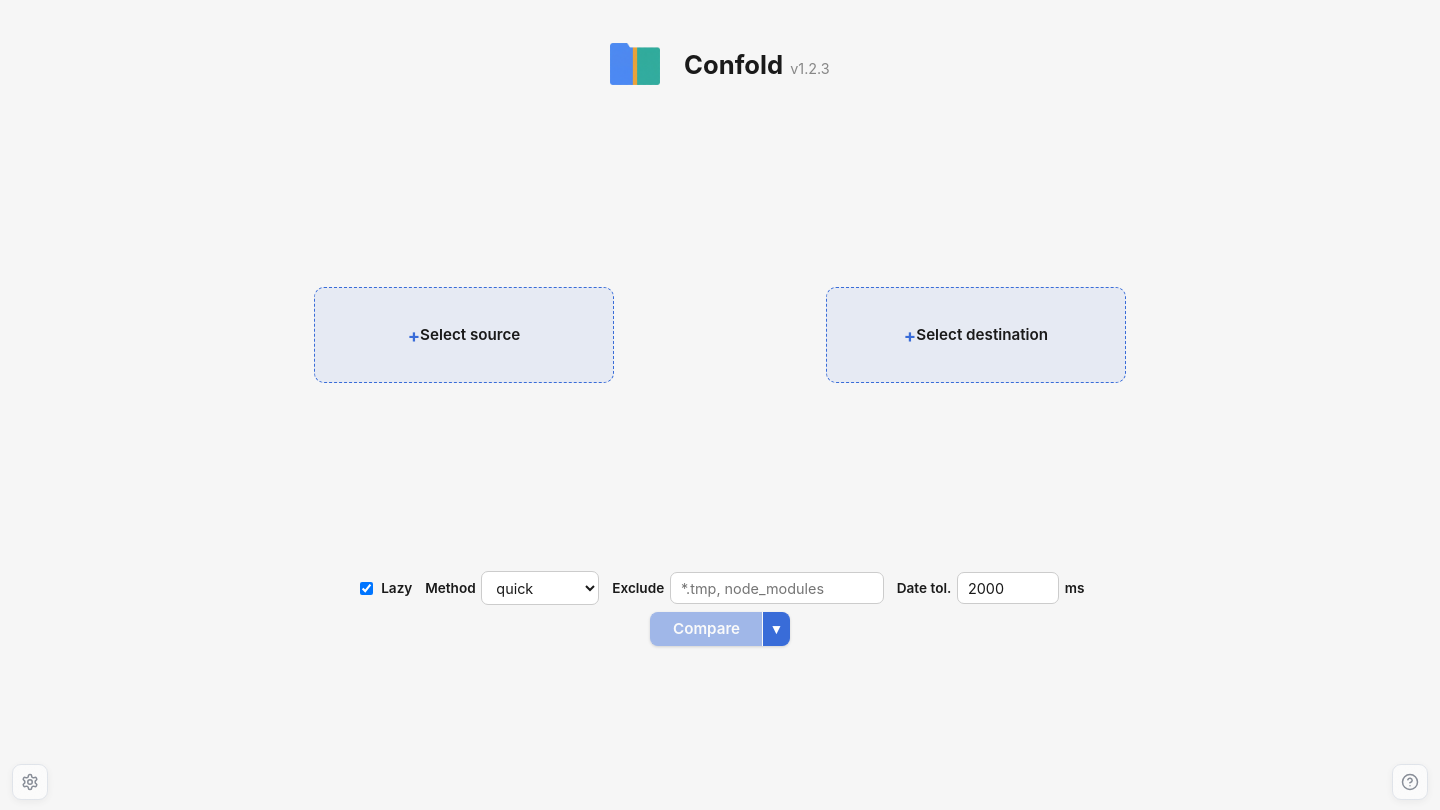
saves the semantic communication language without invalidating the provider
The width and height of the screenshot is (1440, 810).
Click the button named "Open settings": (30, 782) [12, 764, 48, 800]
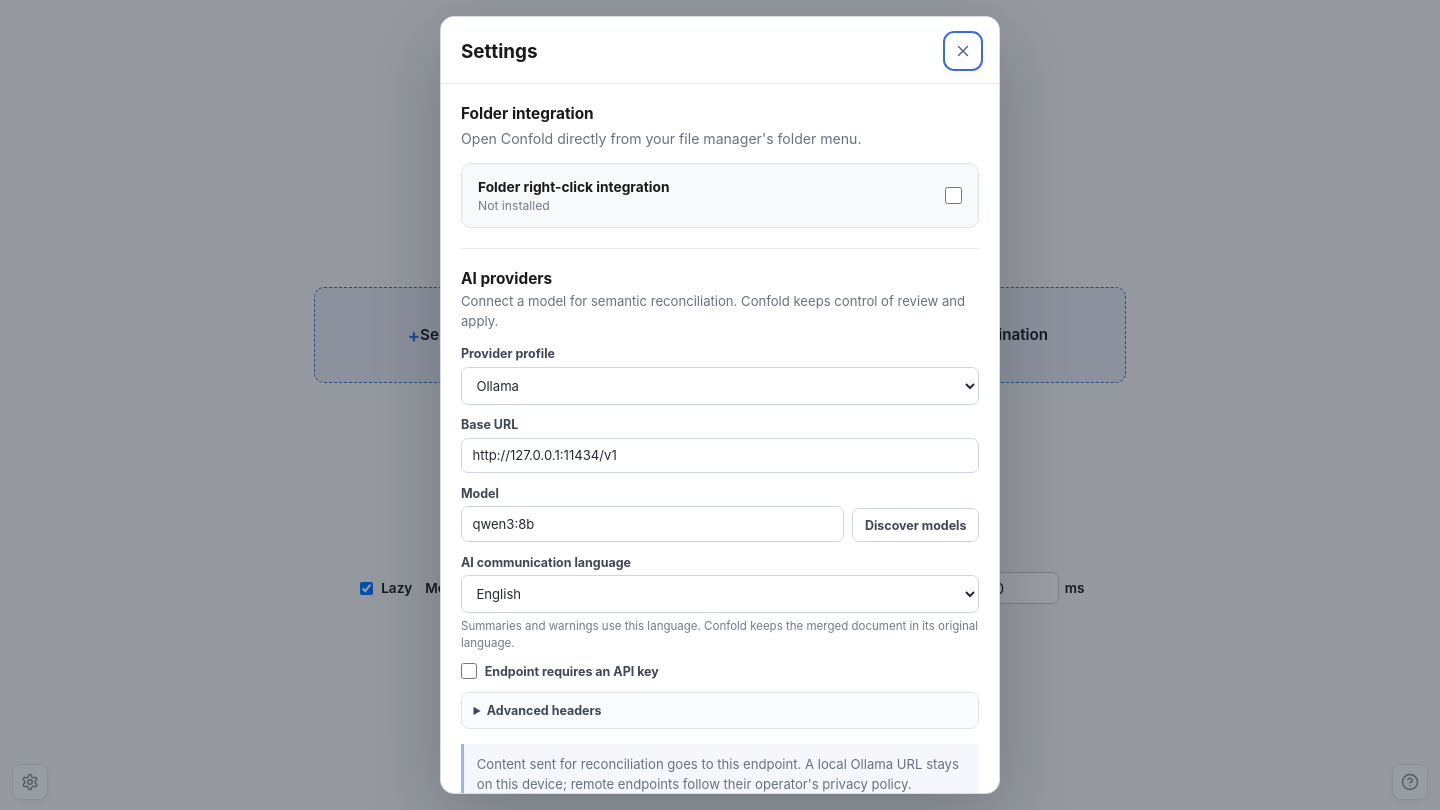
expect the dropdown labelled "AI communication language" shows "English": met
Select "Español" in the dropdown labelled "AI communication language": (720, 594) [461, 575, 979, 613]
(page scrolled)
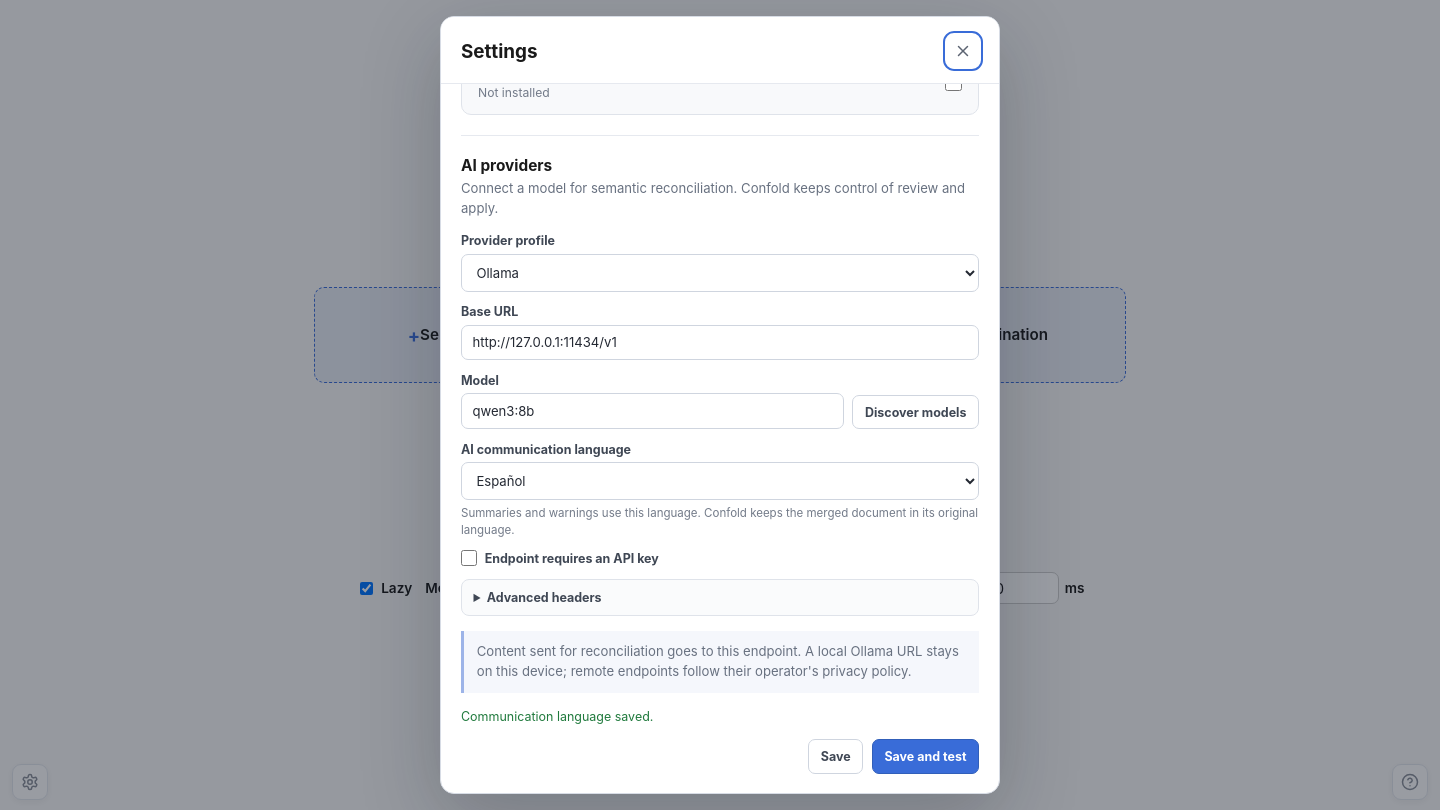
expect the text "Communication language saved." is shown: met, box [461, 709, 653, 724]
